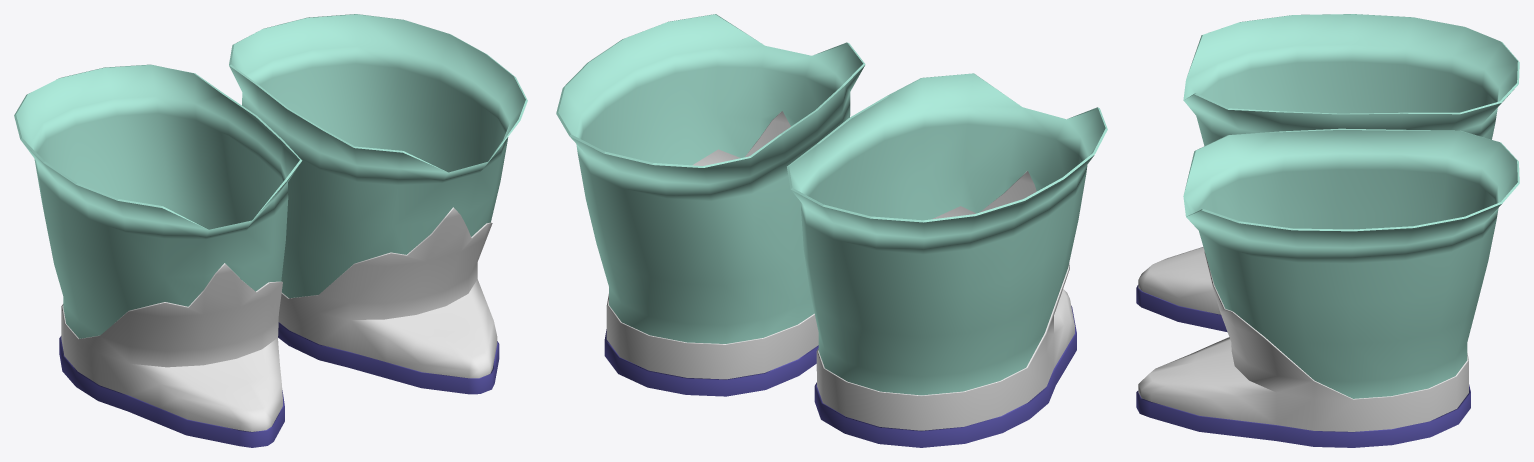
Rendered from Boots08_western.fbx.
3 views of the same model, side by side, from view 1: azimuth 30°, elevation 25°; view 2: azimuth 150°, elevation 25°; view 3: azimuth 270°, elevation 25° (orthographic). The views are drawn at different scales.
Parts seen in each view (by area): view 1: WesternBoots; view 2: WesternBoots; view 3: WesternBoots.
Part boxes in pixels (x1,y1,x2,y2): WesternBoots: [14, 14, 527, 447]; WesternBoots: [556, 14, 1107, 447]; WesternBoots: [1136, 14, 1519, 447].
Size of the model in its own units: 110 by 55.24 by 82.18.
